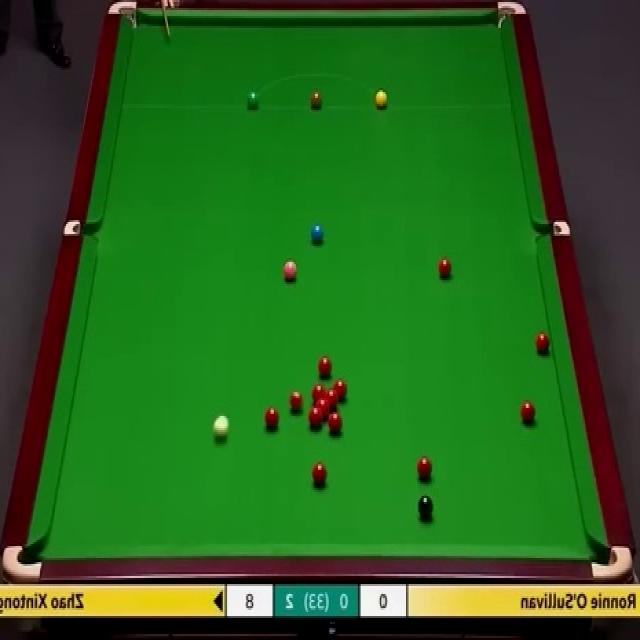pocket: (3, 539, 45, 583), (589, 542, 634, 583), (107, 0, 141, 35), (495, 0, 529, 32), (64, 215, 100, 240), (535, 218, 570, 236)
